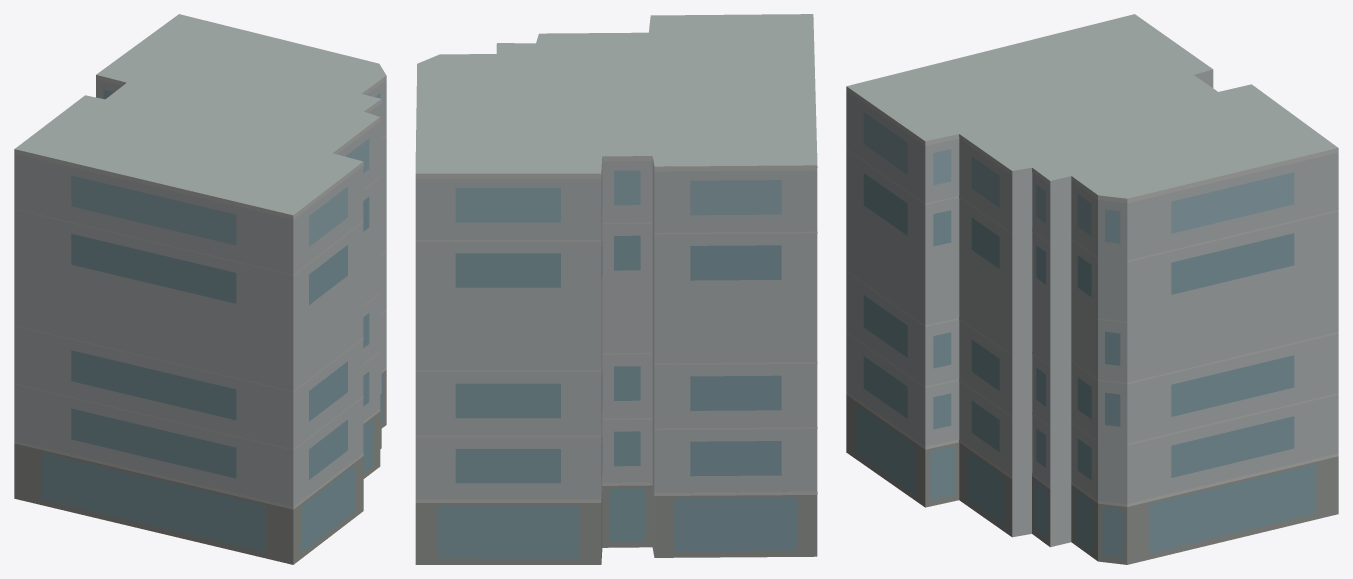
The model's file is survey-upis-33039624.glb.
The picture shows the model from 3 angles, left to right: view 1: azimuth 30°, elevation 25°; view 2: azimuth 150°, elevation 25°; view 3: azimuth 270°, elevation 25°; orthographic projection. The views are drawn at different scales.
Parts seen in each view (by area): view 1: survey-upis-33039624.tmp; view 2: survey-upis-33039624.tmp; view 3: survey-upis-33039624.tmp.
Part boxes in pixels (x1,y1,x2,y2): survey-upis-33039624.tmp: [14, 14, 386, 564]; survey-upis-33039624.tmp: [415, 14, 817, 564]; survey-upis-33039624.tmp: [846, 14, 1338, 564].
Size of the model in its own units: 20.52 by 18.95 by 23.1.
